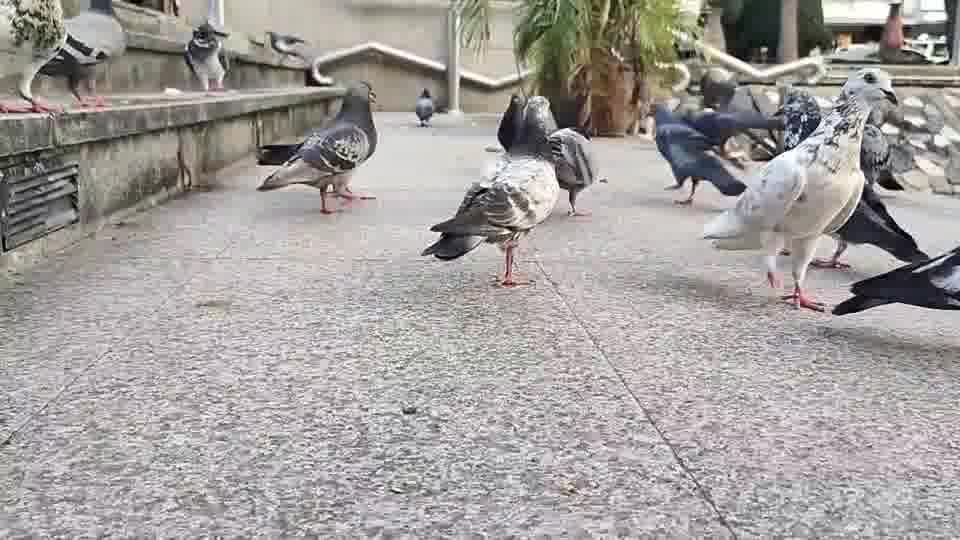Pigeon: (701, 92, 874, 312), (419, 89, 596, 287), (255, 79, 378, 214), (491, 90, 597, 216), (831, 244, 959, 317), (29, 30, 109, 109), (266, 30, 334, 86), (183, 20, 231, 92), (414, 87, 434, 127)
